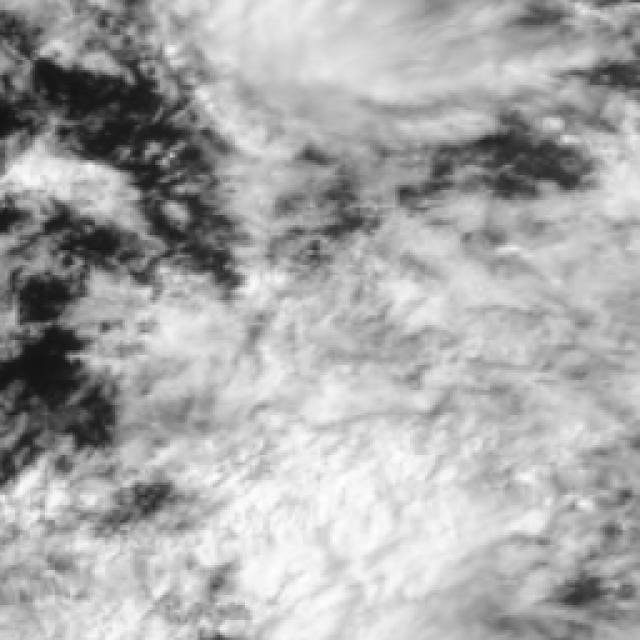CB: (269, 424, 492, 615)
